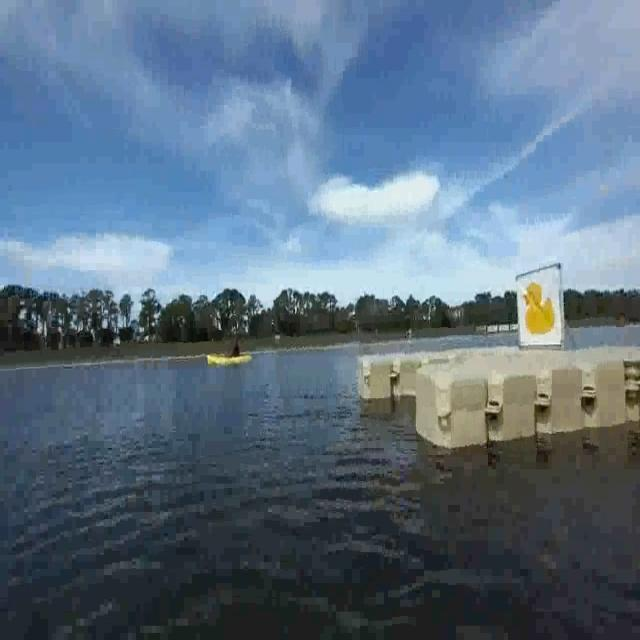yellow-duck: (522, 280, 556, 336)
